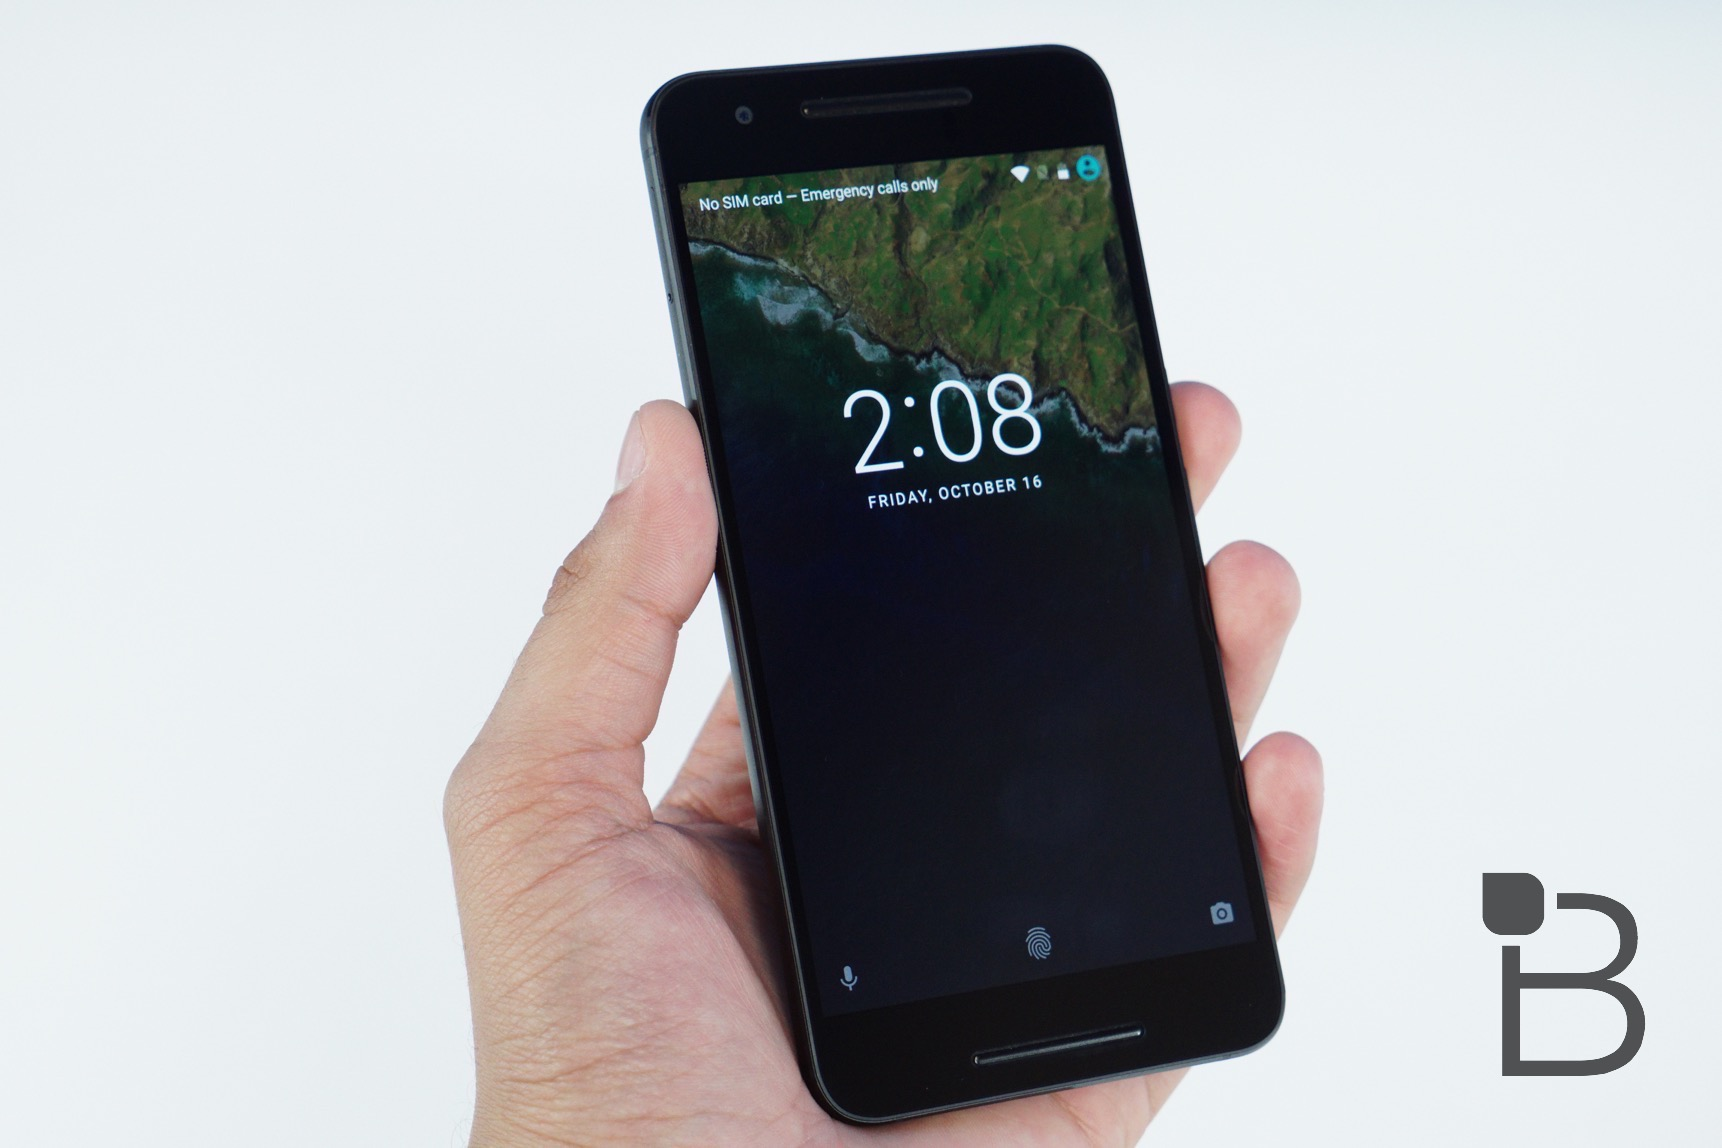smartphone: (639, 42, 1286, 1129)
